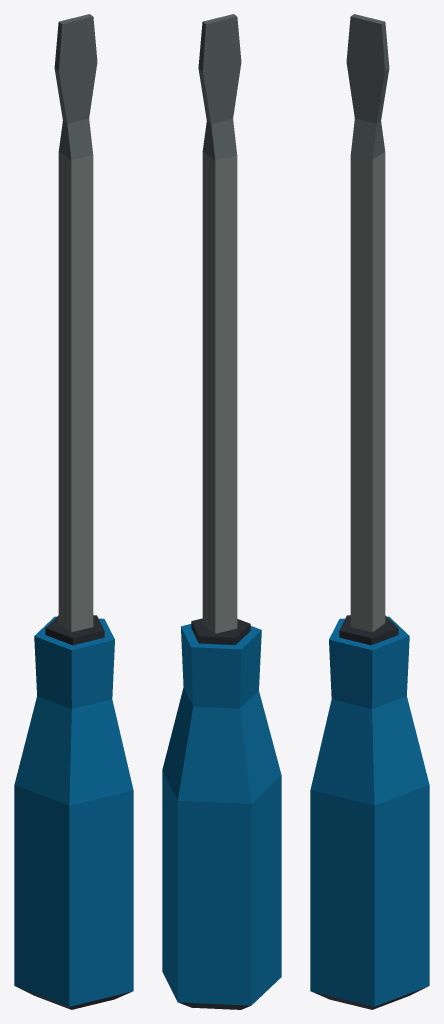
The model's file is SM_Turn-Screw_B.gltf.
3 views of the same model, side by side, from view 1: azimuth 30°, elevation 25°; view 2: azimuth 210°, elevation 25°; view 3: azimuth 330°, elevation 25° (orthographic).
Visible parts, largest first — view 1: SM_Turn-Screw_B; view 2: SM_Turn-Screw_B; view 3: SM_Turn-Screw_B.
Part boxes in pixels (x1,y1,x2,y2): SM_Turn-Screw_B: (14,14,133,1009); SM_Turn-Screw_B: (162,14,281,1009); SM_Turn-Screw_B: (310,14,429,1009).
Size of the model in its own units: 0.0539 by 0.4832 by 0.0513.
1 material, 1 textured.
